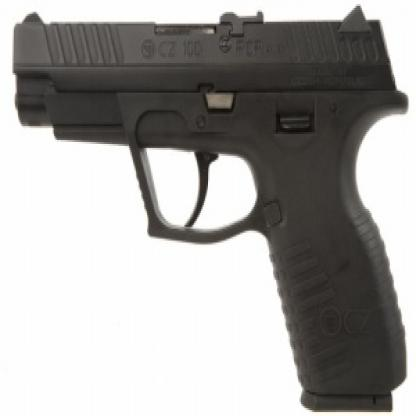Guns: (9, 0, 414, 414)
